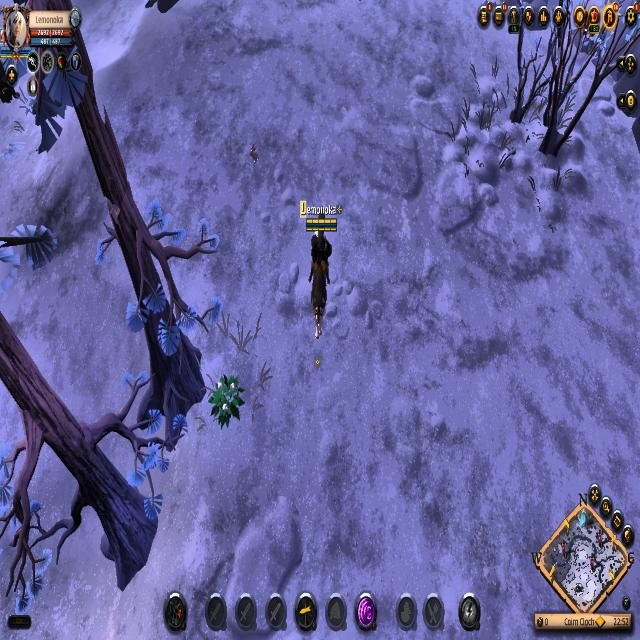fiber tier 3: (208, 370, 246, 433)
